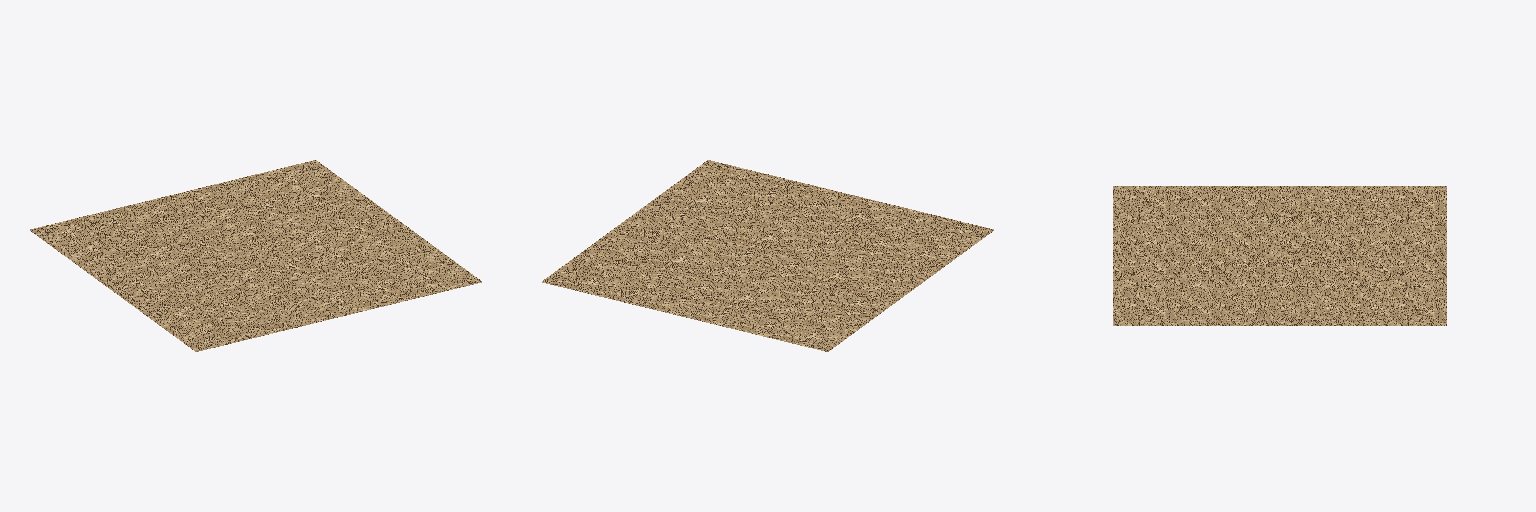
3 views of the same model, side by side, from view 1: azimuth 30°, elevation 25°; view 2: azimuth 150°, elevation 25°; view 3: azimuth 270°, elevation 25° (orthographic).
Visible parts, largest first — view 1: Cube.179_Cube.022; view 2: Cube.179_Cube.022; view 3: Cube.179_Cube.022.
Boxes of the visible parts, box(x1,y1,x2,y2) form: Cube.179_Cube.022: box(30, 160, 481, 351); Cube.179_Cube.022: box(542, 160, 993, 351); Cube.179_Cube.022: box(1113, 186, 1446, 325).
Bounding box in the file's own units: 60 × 0 × 60.53.
1 materials, 1 textured.